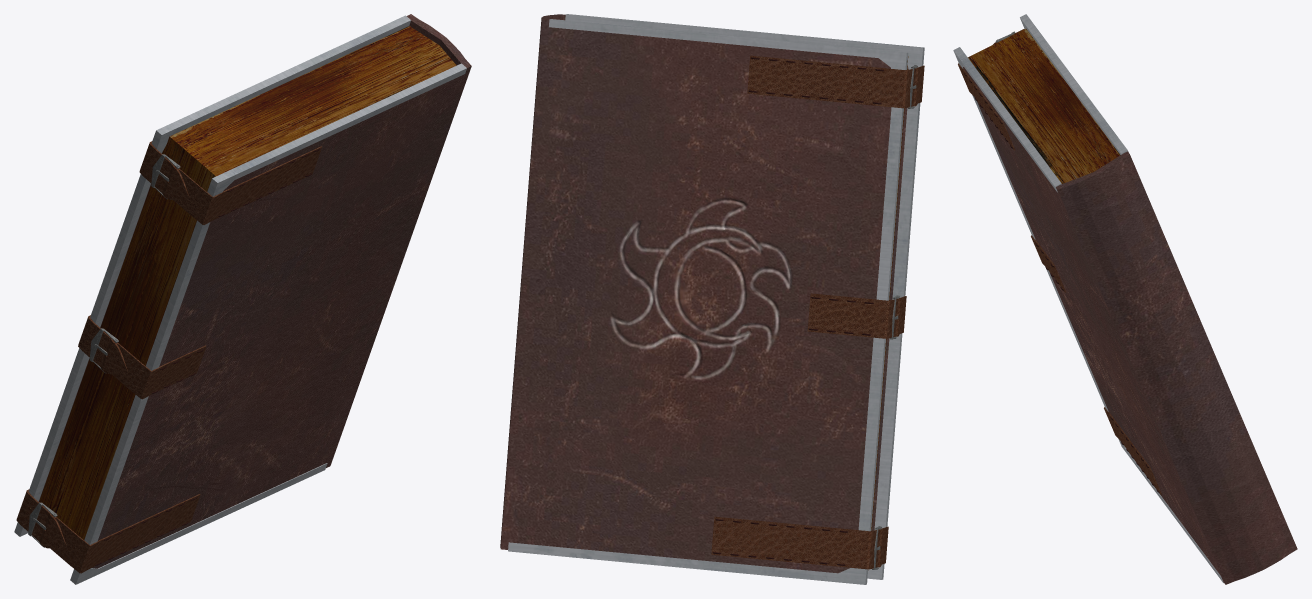
The model's file is book.glb.
3 views of the same model, side by side, from view 1: azimuth 30°, elevation 25°; view 2: azimuth 150°, elevation 25°; view 3: azimuth 270°, elevation 25° (orthographic). The views are drawn at different scales.
Bounding box in the file's own units: 552 × 668 × 468.
Materials: 7 (7 with a texture image).
